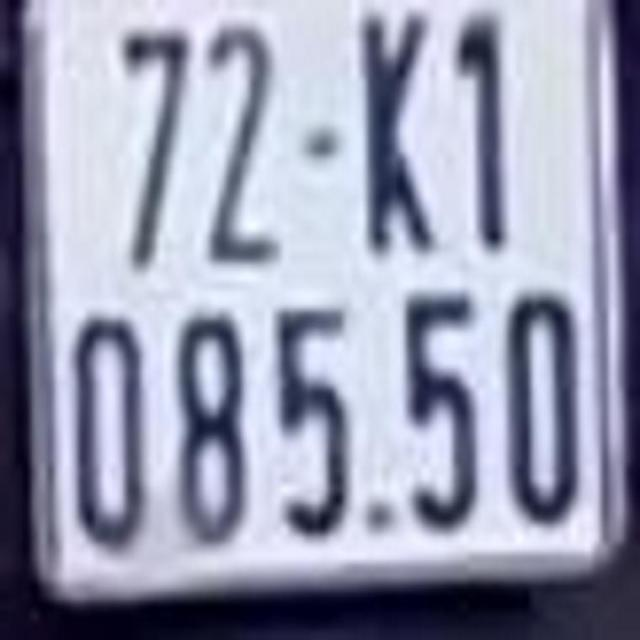0: (507, 289, 580, 529), (75, 308, 144, 544)
1: (452, 13, 507, 245)
2: (207, 19, 282, 263)
5: (272, 302, 353, 538), (404, 286, 479, 528)
7: (122, 28, 188, 271)
8: (176, 311, 244, 544)
K: (357, 10, 435, 248)
